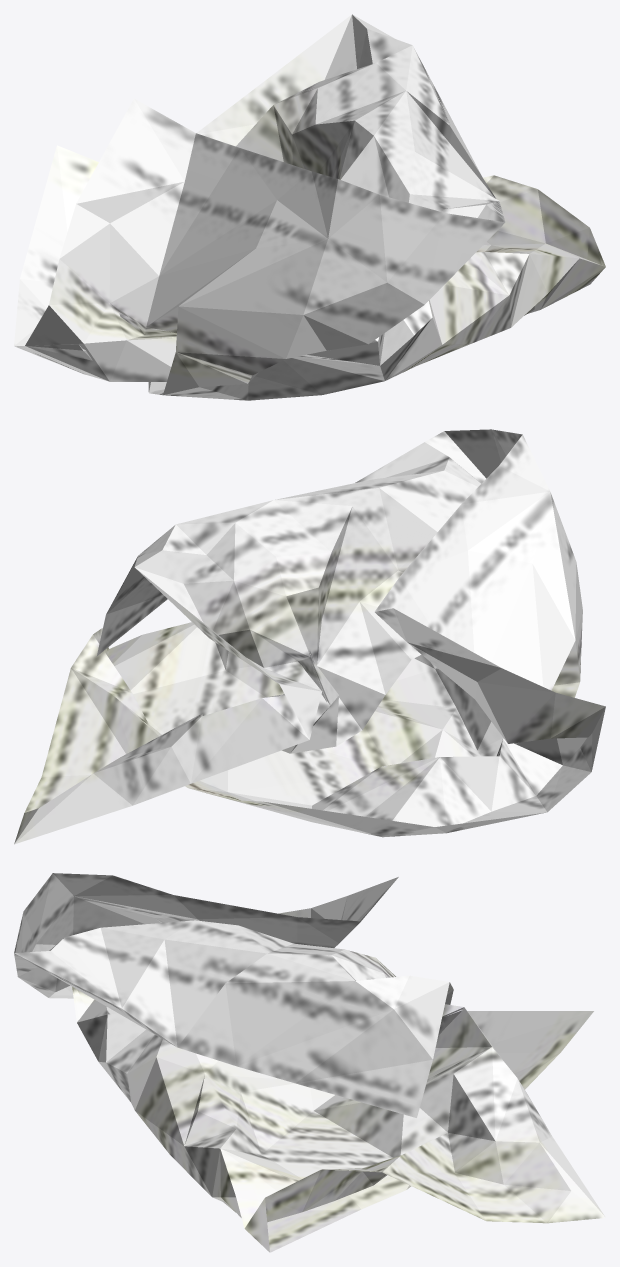
File: Paper 2.FBX
3 views of the same model, one above another, from view 1: azimuth 30°, elevation 25°; view 2: azimuth 150°, elevation 25°; view 3: azimuth 270°, elevation 25° (orthographic). The views are drawn at different scales.
Parts seen in each view (by area): view 1: Paper 2; view 2: Paper 2; view 3: Paper 2.
Part boxes in pixels (x1,y1,x2,y2): Paper 2: (14,14,605,400); Paper 2: (14,429,605,844); Paper 2: (14,873,605,1252).
Size of the model in its own units: 13.87 by 6.48 by 14.38.
Materials: 1 (1 with a texture image).
